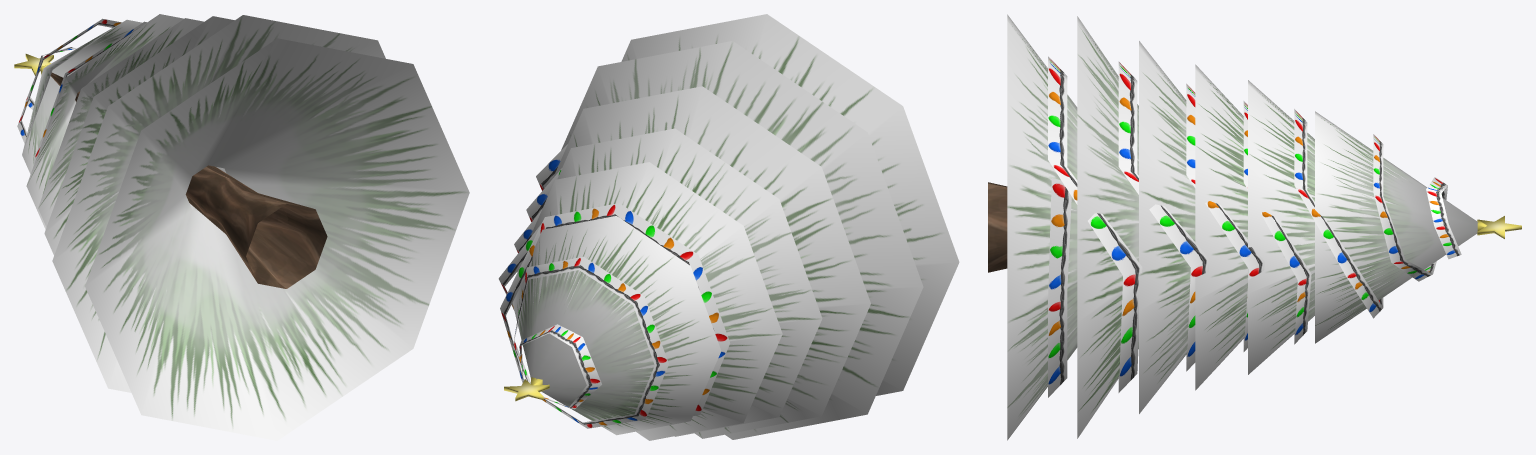
The model's file is Christmas_tree_snow_small.fbx.
The picture shows the model from 3 angles, left to right: view 1: azimuth 30°, elevation 25°; view 2: azimuth 150°, elevation 25°; view 3: azimuth 270°, elevation 25°; orthographic projection. The views are drawn at different scales.
Visible parts, largest first — view 1: Christmas_tree_snow_small; view 2: Christmas_tree_snow_small; view 3: Christmas_tree_snow_small.
Part boxes in pixels (left/top/right/bottom): Christmas_tree_snow_small: left=14, top=14, right=469, bottom=440; Christmas_tree_snow_small: left=498, top=14, right=959, bottom=440; Christmas_tree_snow_small: left=988, top=14, right=1521, bottom=440.
Bounding box in the file's own units: 283 × 283 × 332.
